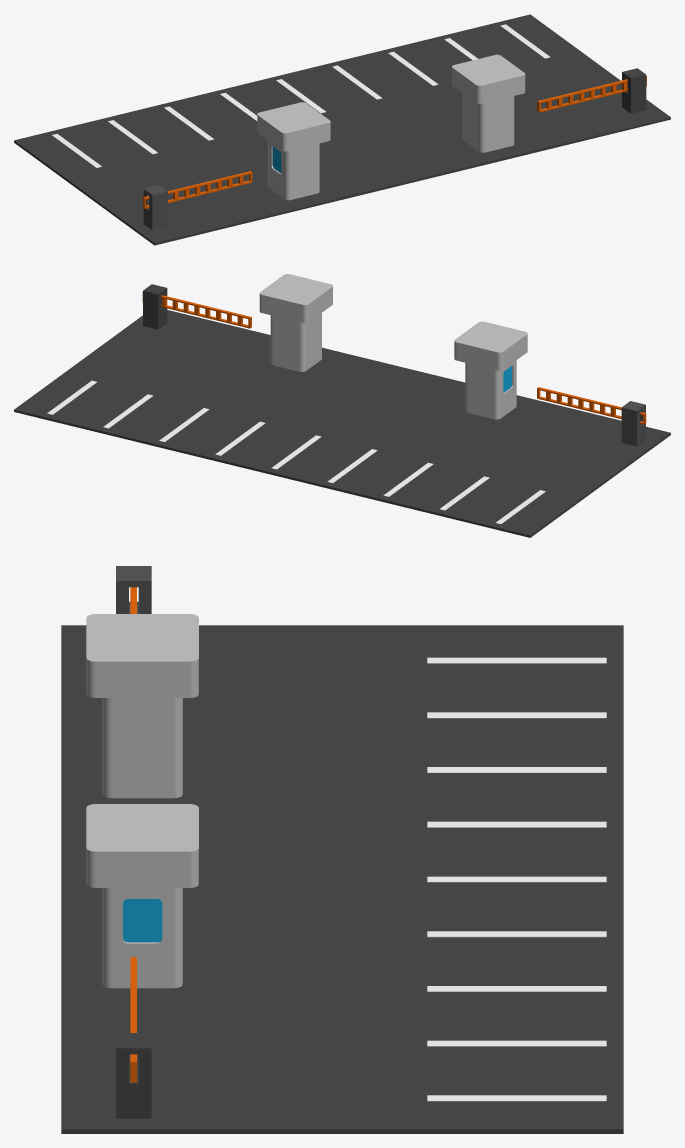
Rendered from MBparking.glb.
3 views of the same model, one above another, from view 1: azimuth 30°, elevation 25°; view 2: azimuth 150°, elevation 25°; view 3: azimuth 270°, elevation 25° (orthographic). The views are drawn at different scales.
Visible parts, largest first — view 1: main; view 2: main; view 3: main.
Boxes of the visible parts, x1,y1,x2,y2 form: main: (14, 14, 670, 245); main: (14, 274, 670, 537); main: (61, 566, 623, 1133).
Bounding box in the file's own units: 29.68 × 4.06 × 14.
